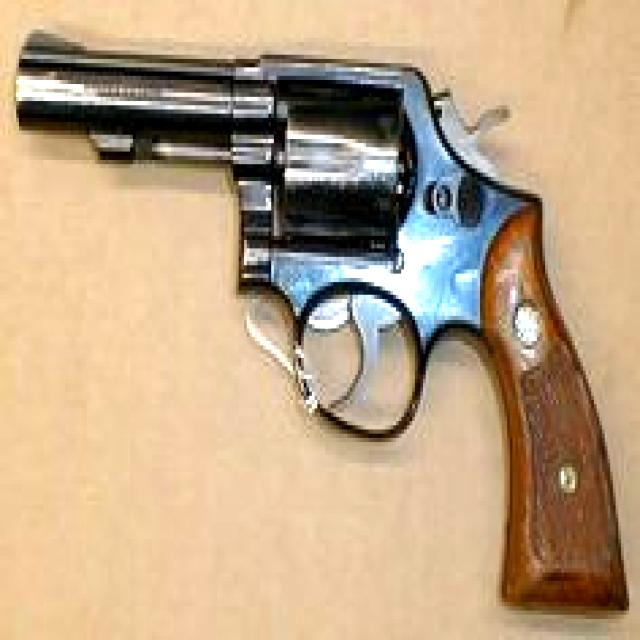revolver: (6, 15, 635, 619)
